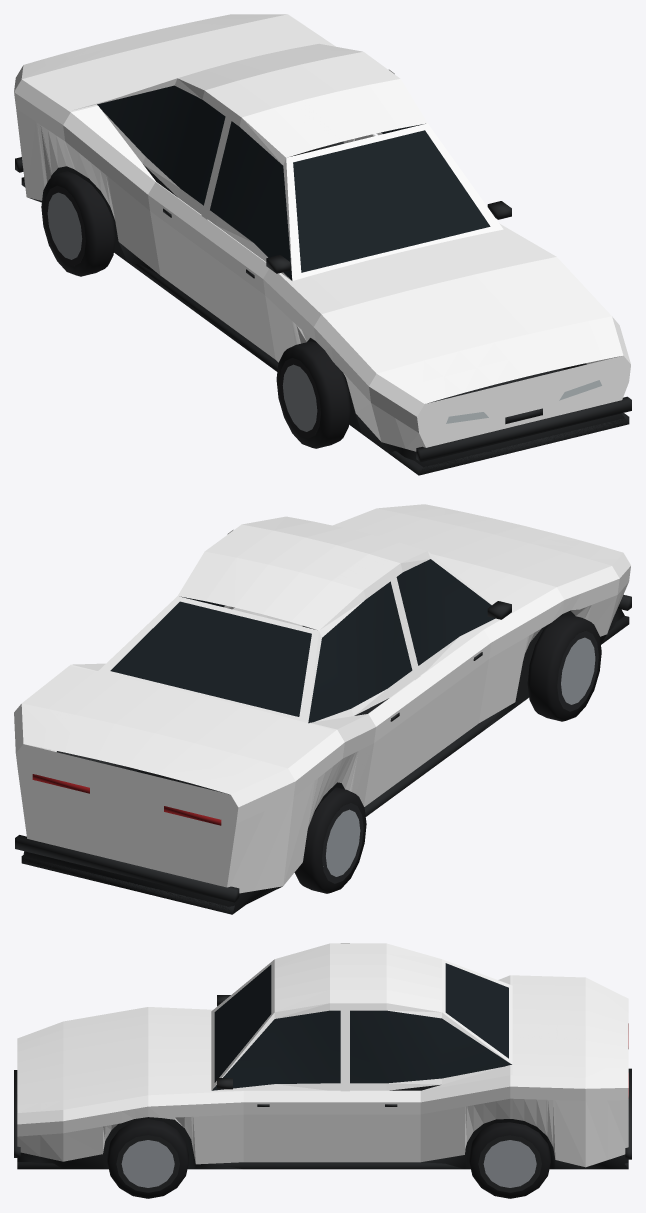
File: calderwood_arvoredo.glb
The picture shows the model from 3 angles, top to bottom: view 1: azimuth 30°, elevation 25°; view 2: azimuth 150°, elevation 25°; view 3: azimuth 270°, elevation 25°; orthographic projection. The views are drawn at different scales.
Parts seen in each view (by area): view 1: Body_Paint, Body_Details, Mount_FrontLeft_Wheel_Details, Mount_RearLeft_Wheel_Details; view 2: Body_Paint, Body_Details, Mount_FrontLeft_Wheel_Details, Mount_RearLeft_Wheel_Details; view 3: Body_Paint, Body_Details, Mount_FrontRight_Wheel_Details, Mount_RearRight_Wheel_Details.
Part boxes in pixels (x1,y1,x2,y2): Body_Paint: (14, 14, 630, 451); Body_Details: (15, 85, 631, 475); Mount_FrontLeft_Wheel_Details: (276, 341, 350, 448); Mount_RearLeft_Wheel_Details: (41, 171, 115, 276); Body_Paint: (14, 504, 630, 893); Body_Details: (15, 559, 631, 914); Mount_FrontLeft_Wheel_Details: (527, 614, 601, 721); Mount_RearLeft_Wheel_Details: (294, 787, 366, 893); Body_Paint: (17, 943, 628, 1167); Body_Details: (14, 963, 631, 1169); Mount_FrontRight_Wheel_Details: (107, 1119, 188, 1198); Mount_RearRight_Wheel_Details: (469, 1122, 550, 1198).
Bounding box in the file's own units: 2.02 × 1.58 × 4.99.
2 materials, 1 textured.
